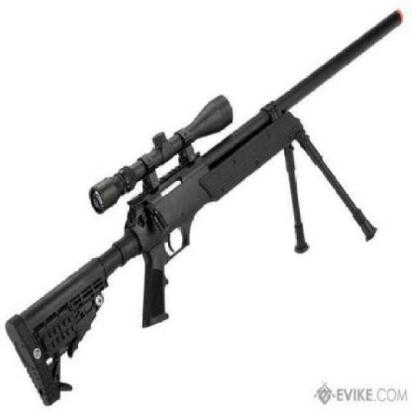Gun: (11, 4, 405, 411)
